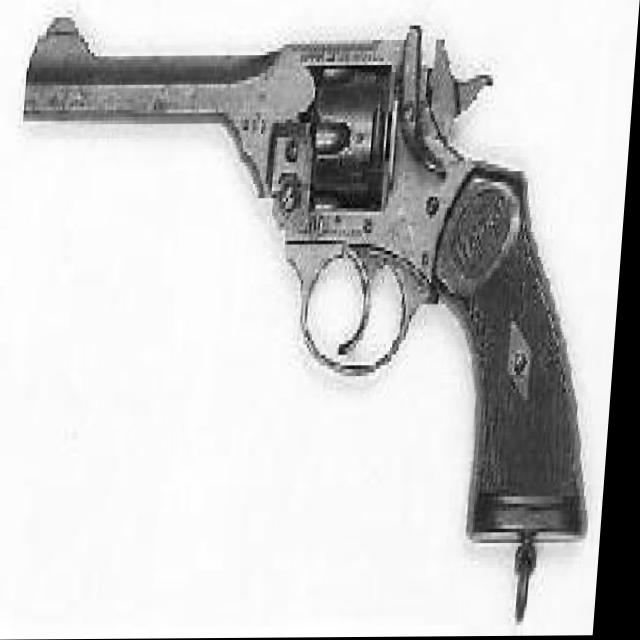handgun: (0, 11, 633, 550)
